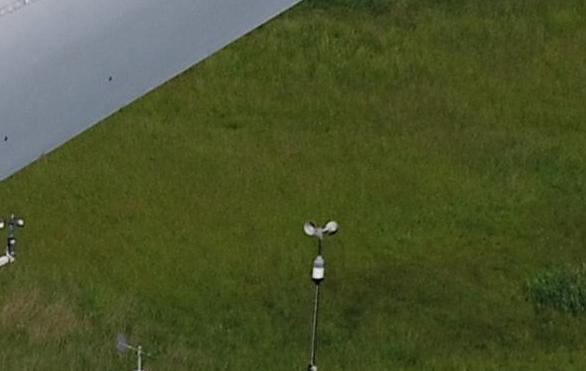damage: (107, 75, 113, 82), (4, 134, 8, 141)
